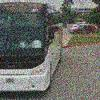buses: (0, 1, 64, 94)
